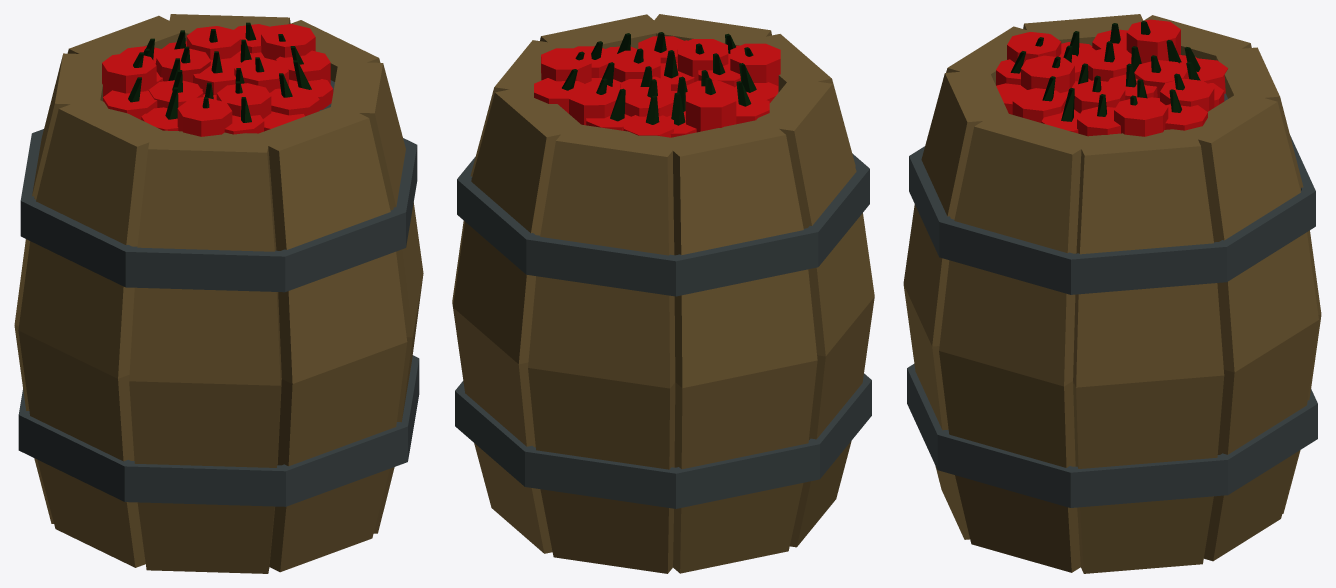
Rendered from uploads_files_3145878_TNT+barrel.fbx.
3 views of the same model, side by side, from view 1: azimuth 30°, elevation 25°; view 2: azimuth 150°, elevation 25°; view 3: azimuth 270°, elevation 25° (orthographic).
Parts seen in each view (by area): view 1: TNT barrel; view 2: TNT barrel; view 3: TNT barrel.
Boxes of the visible parts, box(x1,y1,x2,y2) form: TNT barrel: box(14, 14, 423, 573); TNT barrel: box(452, 14, 874, 573); TNT barrel: box(903, 14, 1321, 573).
Bounding box in the file's own units: 37.66 × 44.73 × 37.66.
